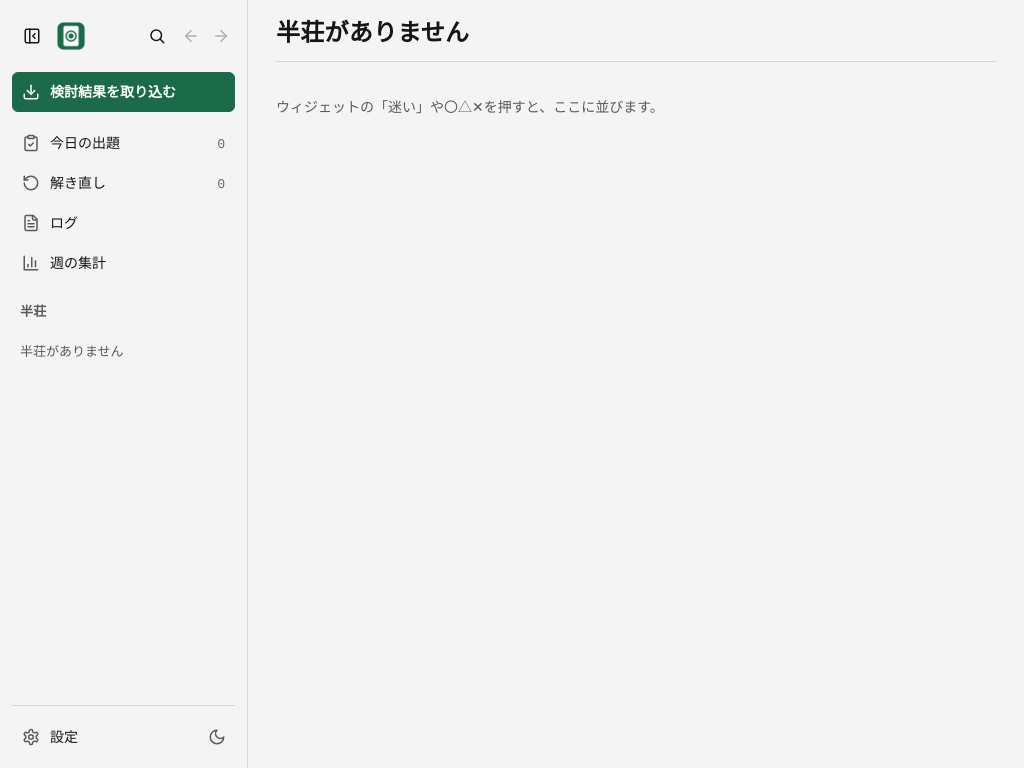
Test case: 牌譜リンクを待つ（E-15） › クリップボードが空なら、そう伝えて、雀魂での手順を案内する。代わりの取り込み方も出す
Click the button "検討結果を取り込む": click(124, 92) [12, 72, 235, 112]
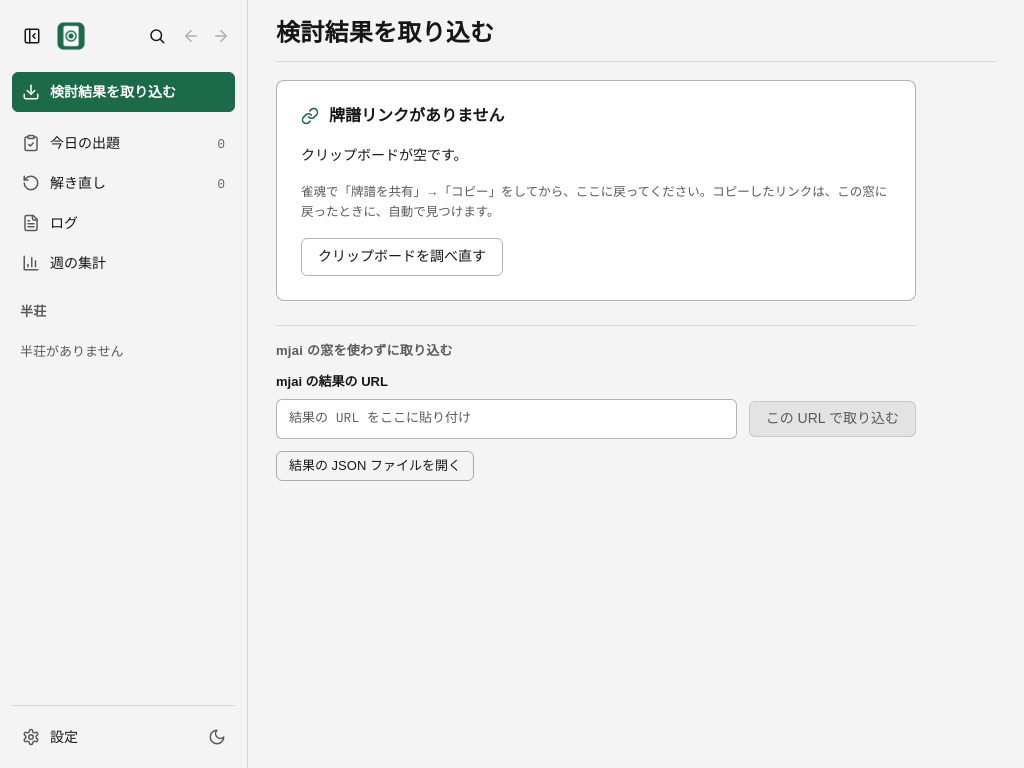
Now the heading "検討結果を取り込む" is shown, box [276, 18, 494, 49]
Now the heading "牌譜リンクがありません" is shown, box [301, 107, 504, 125]
Now the text "クリップボードが空です。" is shown, box [301, 147, 468, 163]
